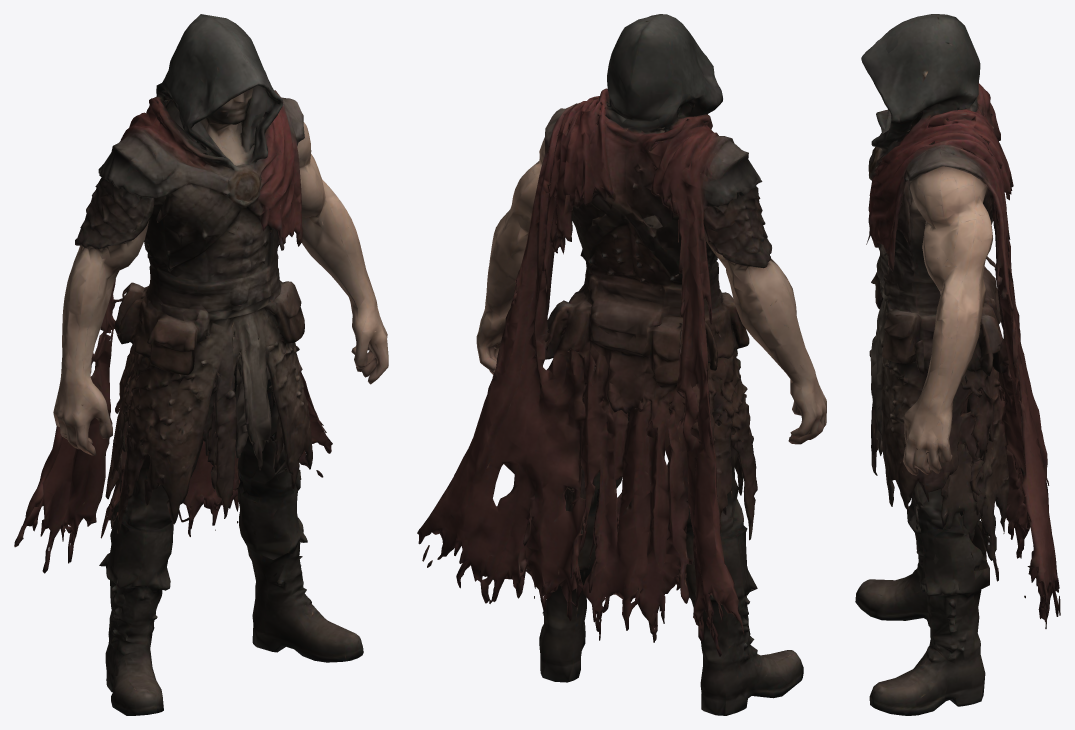
The model's file is aethelred_bracos_humanos_leve.glb.
3 views of the same model, side by side, from view 1: azimuth 30°, elevation 25°; view 2: azimuth 150°, elevation 25°; view 3: azimuth 270°, elevation 25° (orthographic). The views are drawn at different scales.
Visible parts, largest first — view 1: world; view 2: world; view 3: world.
Part boxes in pixels (box(x1,y1,x2,y2)): world: box(14, 14, 388, 715); world: box(417, 14, 826, 715); world: box(855, 14, 1060, 715).
Size of the model in its own units: 0.541 by 1 by 0.2883.
1 material, 1 textured.
